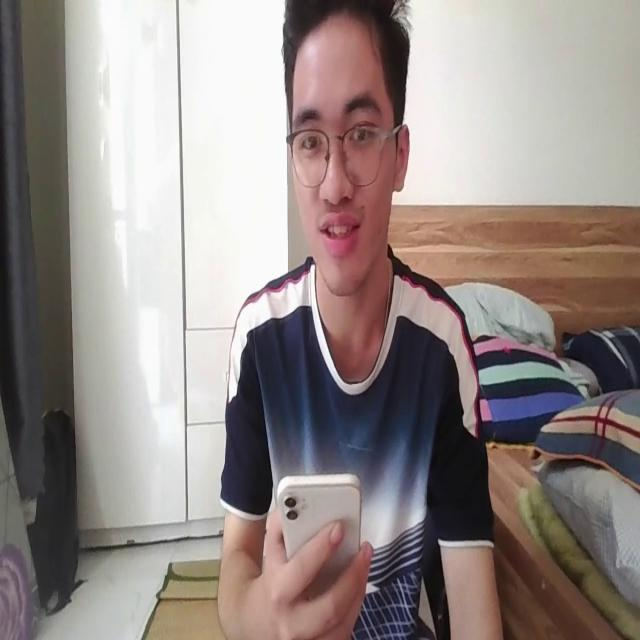phone: (273, 465, 366, 583)
student: (213, 3, 509, 640)
